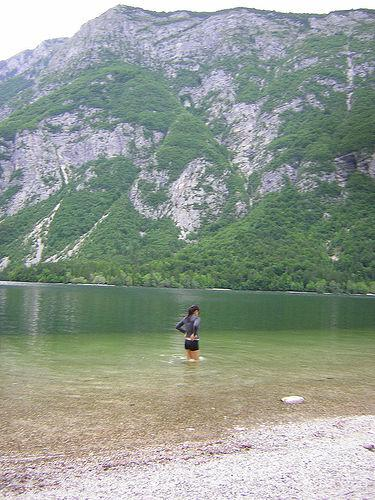human: (176, 304, 201, 359)
